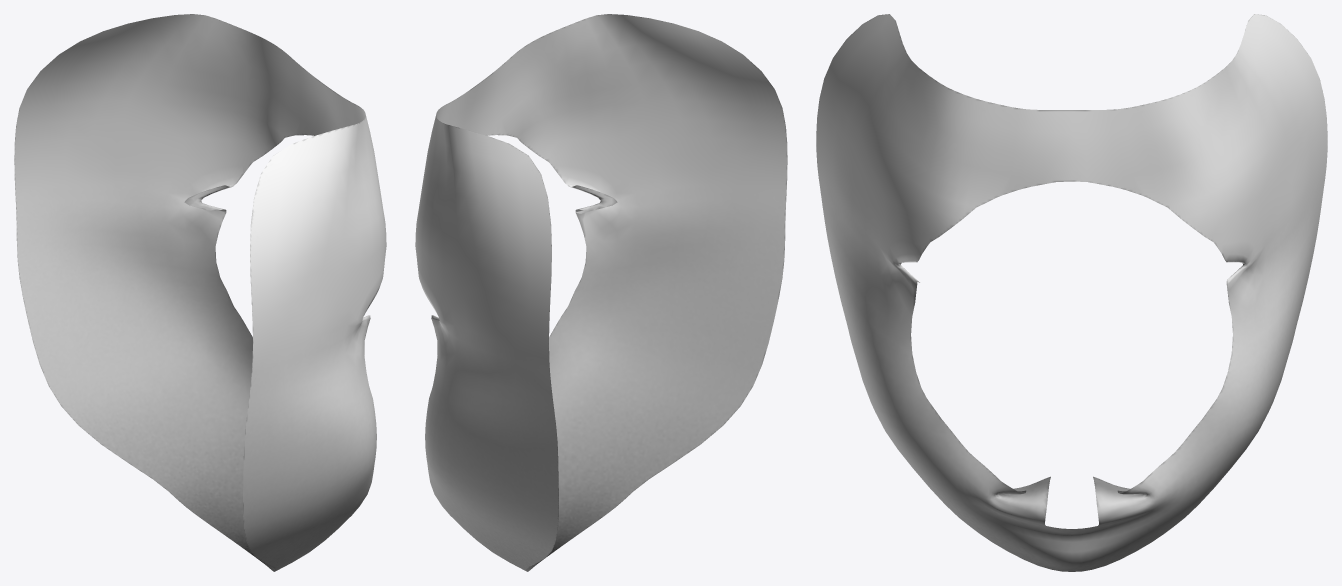
The model's file is geishaHead_white.gltf.
The picture shows the model from 3 angles, left to right: view 1: azimuth 30°, elevation 25°; view 2: azimuth 150°, elevation 25°; view 3: azimuth 270°, elevation 25°; orthographic projection. The views are drawn at different scales.
Visible parts, largest first — view 1: Plane.005; view 2: Plane.005; view 3: Plane.005.
Part boxes in pixels (x1,y1,x2,y2): Plane.005: (14,14,386,571); Plane.005: (415,14,787,571); Plane.005: (816,14,1327,571).
Bounding box in the file's own units: 6.18 × 13.08 × 11.7.
Materials: 1 (1 with a texture image).
